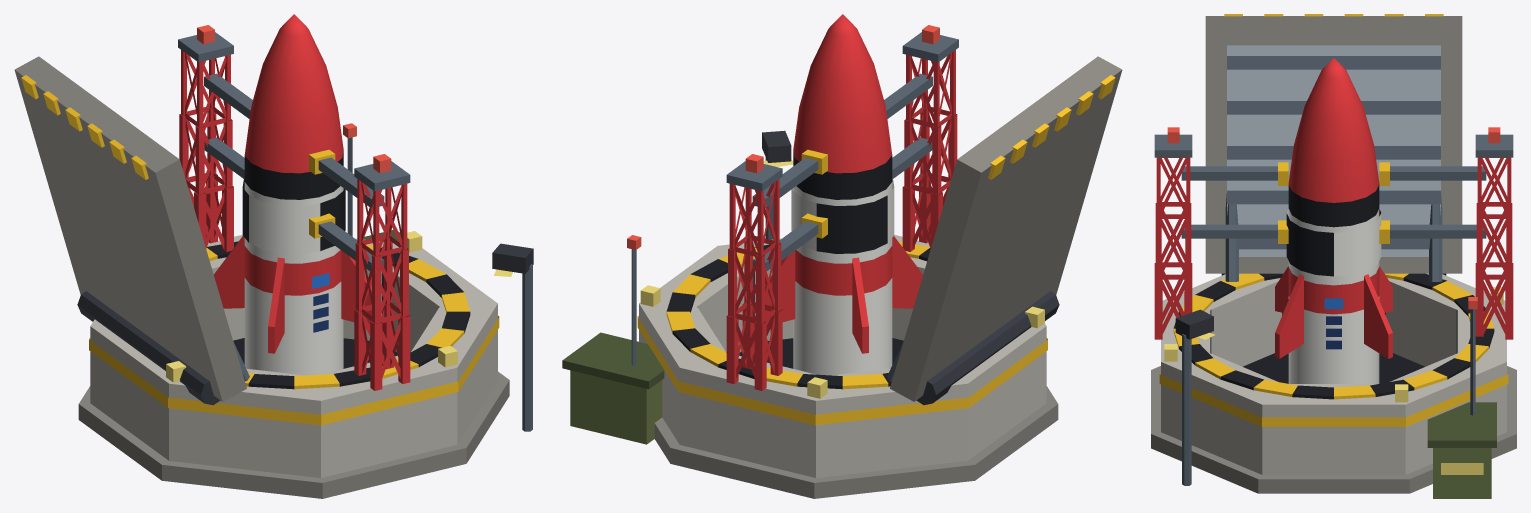
The model's file is missile_silo.glb.
3 views of the same model, side by side, from view 1: azimuth 30°, elevation 25°; view 2: azimuth 150°, elevation 25°; view 3: azimuth 270°, elevation 25° (orthographic). The views are drawn at different scales.
Parts seen in each view (by area): view 1: Body; view 2: Body; view 3: Body.
Boxes of the visible parts, box(x1,y1,x2,y2) form: Body: box(14, 14, 533, 498); Body: box(562, 14, 1122, 498); Body: box(1151, 14, 1516, 498).
Bounding box in the file's own units: 1.59 × 1.48 × 1.37.
